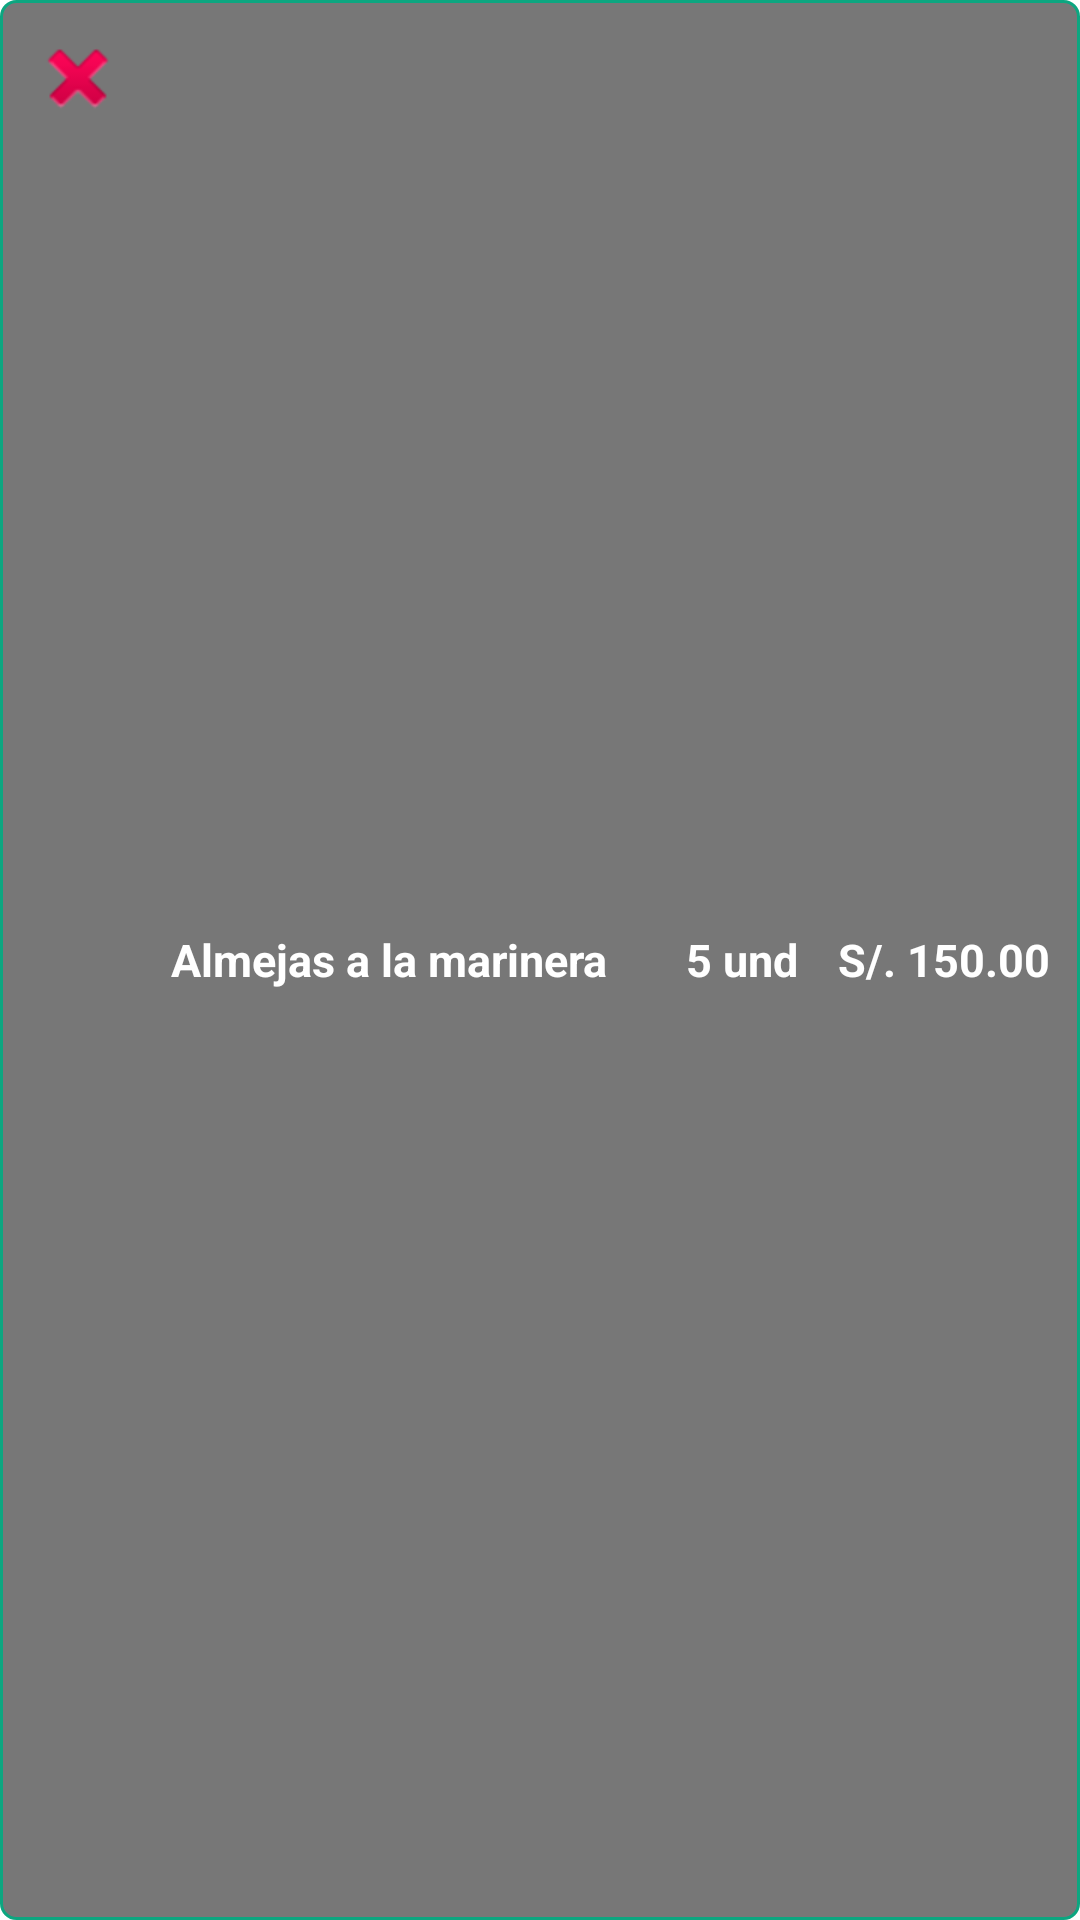

Icon bounding boxes for this 1080 x 1920 phone screenshot, format box(x1, y1, x2, y2):
delete: box(48, 49, 108, 108)
